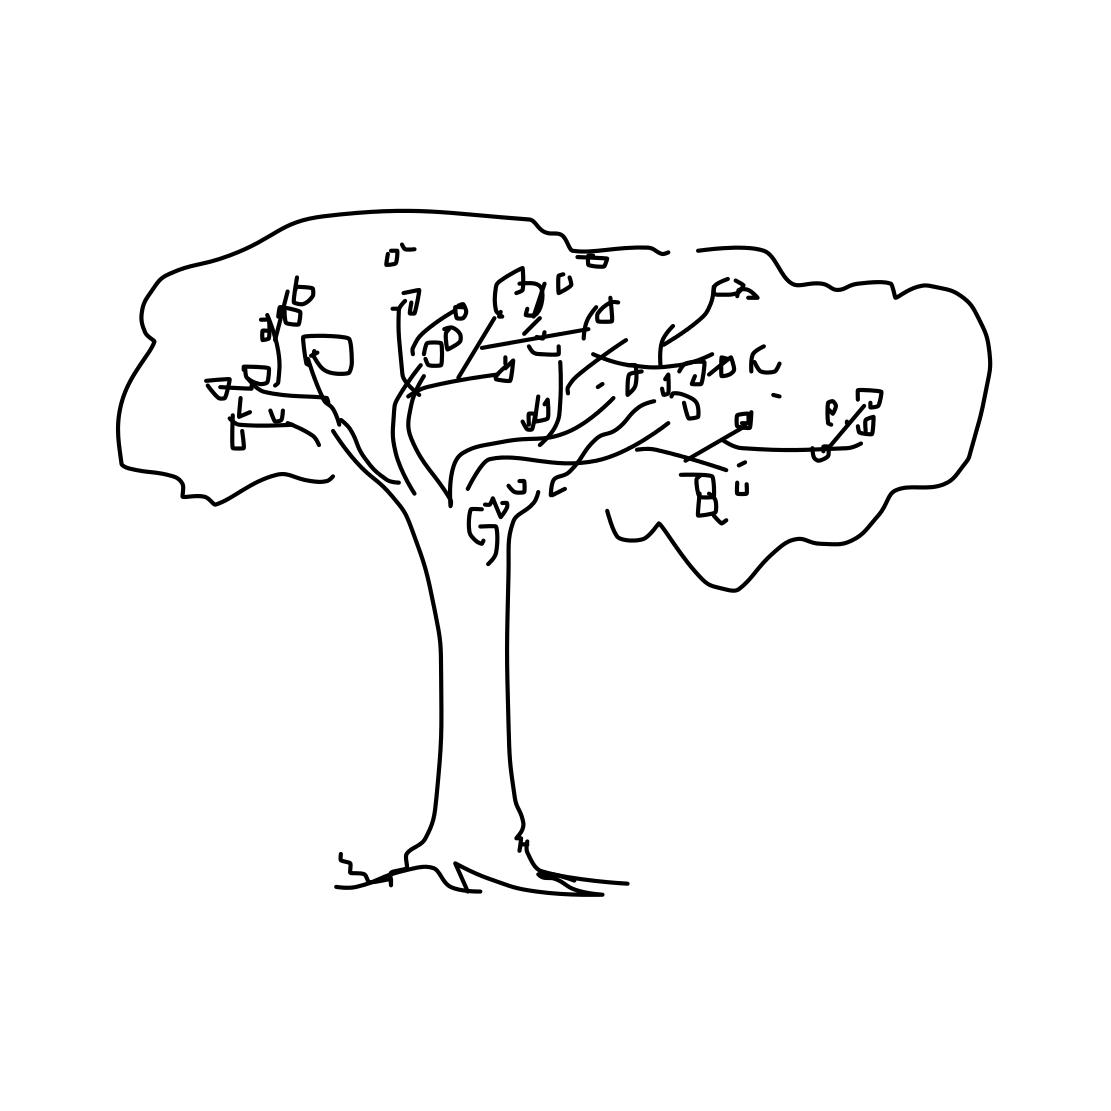Tree: (107, 154, 1004, 903)
